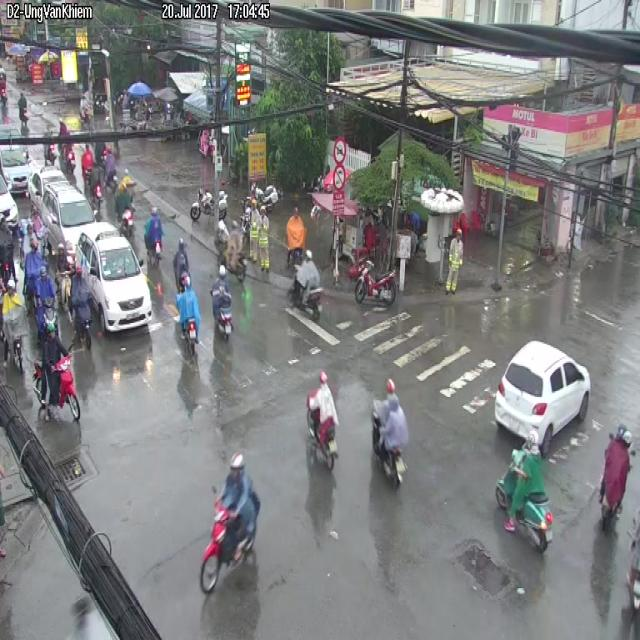car: (201, 455, 260, 593), (496, 430, 552, 553), (33, 329, 79, 419), (373, 379, 408, 483), (599, 425, 632, 530), (307, 372, 338, 470), (353, 259, 397, 305), (292, 250, 322, 317), (211, 265, 232, 338), (176, 274, 200, 333), (36, 265, 56, 332)
traffic-light: (495, 341, 591, 453), (78, 233, 152, 330), (33, 182, 102, 253)
